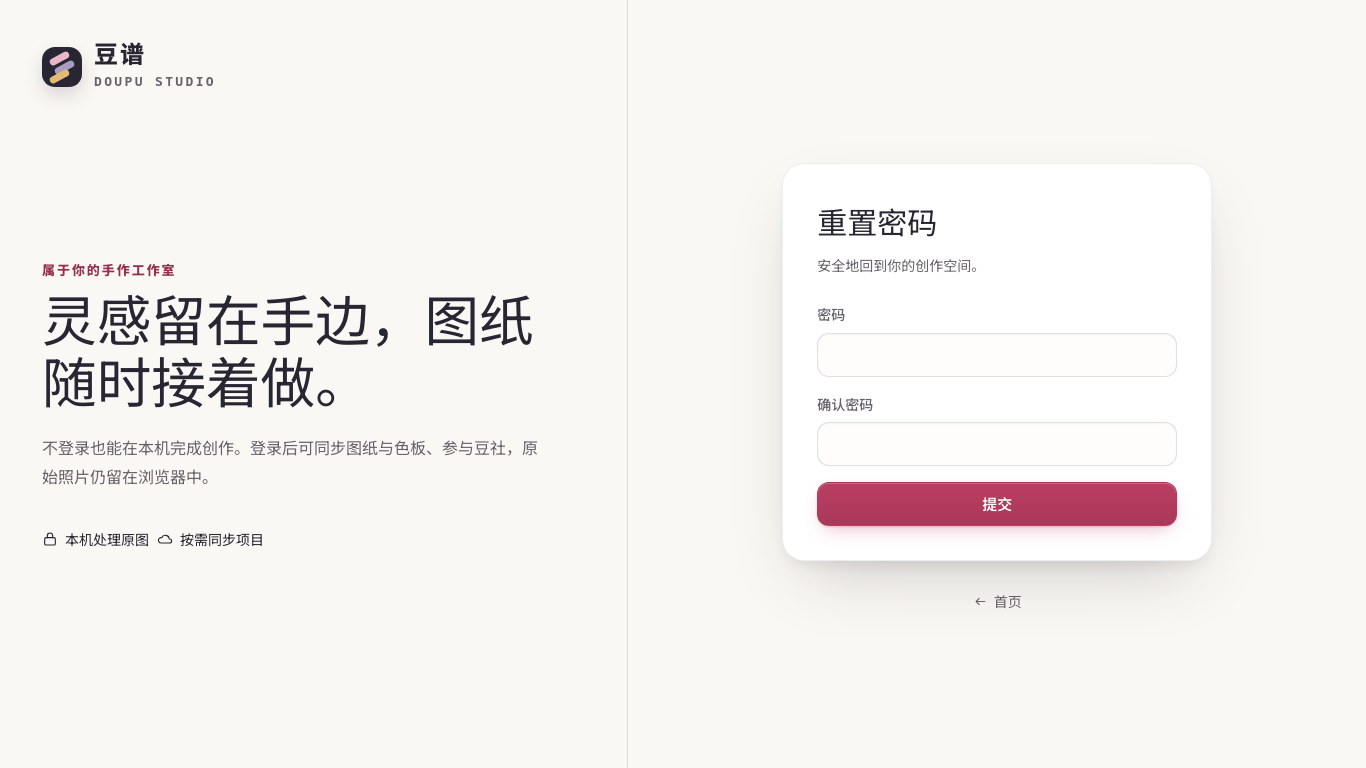
reset-password 页 › 成功 → 提示旧会话失效并携带 token
Step 1. Type "12345678" into the password field labelled "密码" → (997, 355), box [817, 333, 1177, 377]
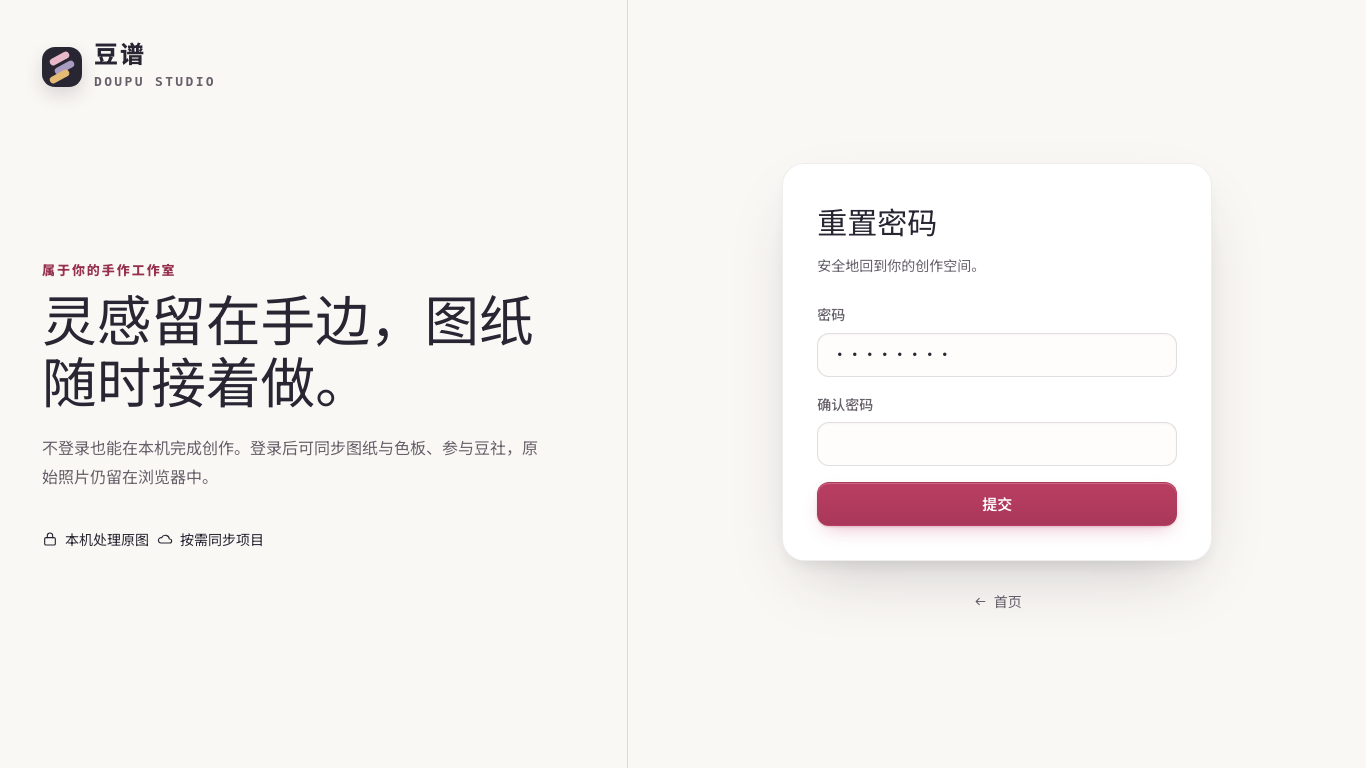
Step 2. Type "12345678" into the password field labelled "确认密码" → (997, 444), box [817, 422, 1177, 466]
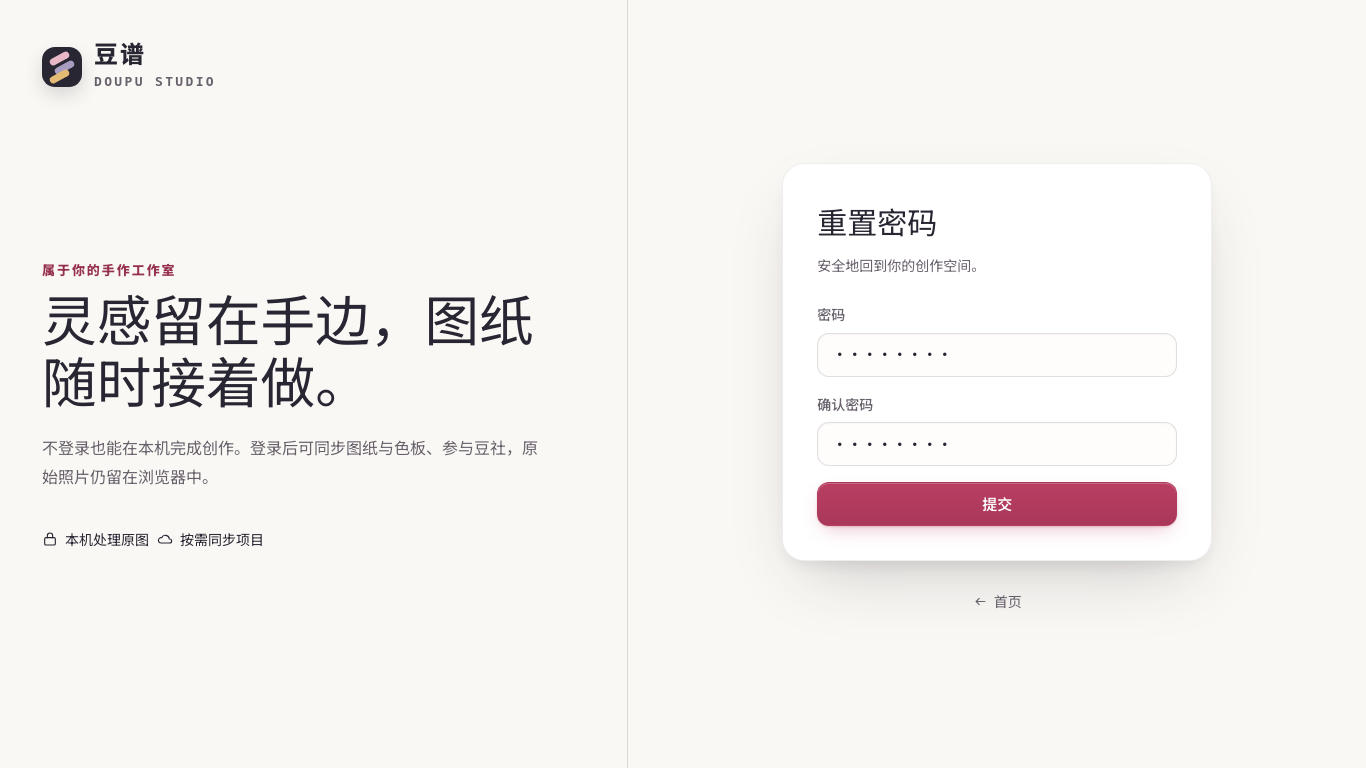
Step 3. Click the button "提交" → (997, 504), box [817, 482, 1177, 526]
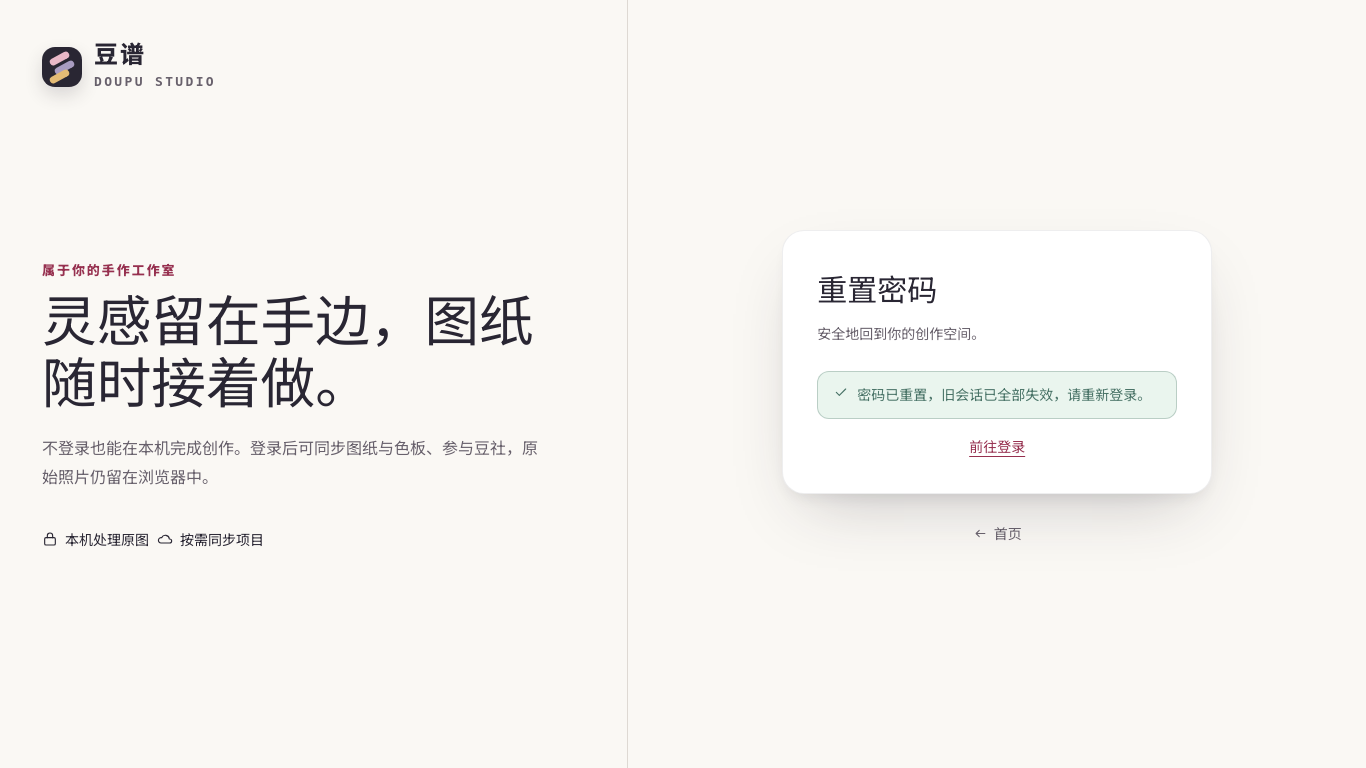
Result: the message reads "密码已重置，旧会话已全部失效，请重新登录。" at [857, 386, 1151, 403]
